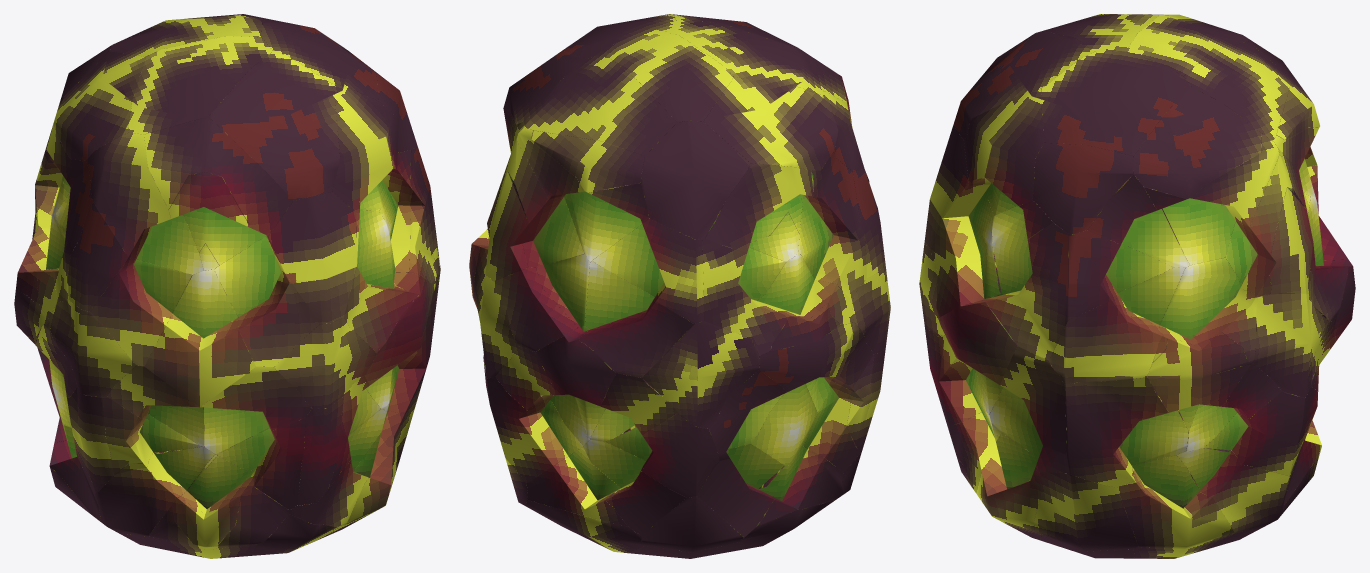
Rendered from Huevo cachos.glb.
3 renders of one model, left to right at view 1: azimuth 30°, elevation 25°; view 2: azimuth 150°, elevation 25°; view 3: azimuth 270°, elevation 25°, orthographic.
Parts seen in each view (by area): view 1: Sphere.001_cell.023, Sphere.001_cell.029, Sphere.001_cell.062, Sphere.001_cell.024, Sphere.001_cell.022, Sphere.001_cell.027, Sphere.001_cell.089, Sphere.001_cell.098, Sphere.001_cell.035, Sphere.001_cell.099, Sphere.001_cell.090, Sphere.001_cell.004 (+38 smaller); view 2: Sphere.001_cell.098, Sphere.001_cell.053, Sphere.001_cell.065, Sphere.001_cell.087, Sphere.001_cell.018, Sphere.001_cell.077, Sphere.001_cell.063, Sphere.001_cell.044, Sphere.001_cell.067, Sphere.001_cell.057, Sphere.001_cell.022, Sphere.001_cell.014 (+40 smaller); view 3: Sphere.001_cell.054, Sphere.001_cell.036, Sphere.001_cell.047, Sphere.001_cell.016, Sphere.001_cell.040, Sphere.001_cell.035, Sphere.001_cell.032, Sphere.001_cell.051, Sphere.001_cell.007, Sphere.001_cell.025, Sphere.001_cell.061, Sphere.001_cell.030 (+35 smaller).
Part boxes in pixels (x1,y1,x2,y2): Sphere.001_cell.023: (209,51,339,200); Sphere.001_cell.029: (144,117,292,265); Sphere.001_cell.062: (86,133,203,274); Sphere.001_cell.024: (145,269,255,407); Sphere.001_cell.022: (128,36,272,134); Sphere.001_cell.027: (266,192,356,323); Sphere.001_cell.089: (214,236,319,366); Sphere.001_cell.098: (53,51,145,160); Sphere.001_cell.035: (331,83,397,212); Sphere.001_cell.099: (90,258,192,366); Sphere.001_cell.090: (94,446,215,536); Sphere.001_cell.004: (148,455,289,549); Sphere.001_cell.098: (703,77,838,170); Sphere.001_cell.053: (641,121,749,239); Sphere.001_cell.065: (524,54,676,155); Sphere.001_cell.087: (578,261,693,377); Sphere.001_cell.018: (642,321,759,428); Sphere.001_cell.077: (600,29,733,122); Sphere.001_cell.063: (798,152,866,300); Sphere.001_cell.044: (592,219,703,323); Sphere.001_cell.067: (516,128,649,261); Sphere.001_cell.057: (702,238,785,337); Sphere.001_cell.022: (658,21,825,98); Sphere.001_cell.014: (487,377,582,482); Sphere.001_cell.054: (1041,51,1190,156); Sphere.001_cell.036: (1065,377,1188,487); Sphere.001_cell.047: (1133,87,1261,198); Sphere.001_cell.016: (1117,455,1234,549); Sphere.001_cell.040: (1144,133,1279,265); Sphere.001_cell.035: (964,88,1043,215); Sphere.001_cell.032: (1049,298,1161,384); Sphere.001_cell.051: (989,346,1069,473); Sphere.001_cell.007: (1152,257,1258,365); Sphere.001_cell.025: (1032,143,1133,234); Sphere.001_cell.061: (930,183,1001,317); Sphere.001_cell.030: (985,222,1069,360).
Size of the model in its own units: 8.22 by 10.88 by 8.58.
Materials: 1 (1 with a texture image).
